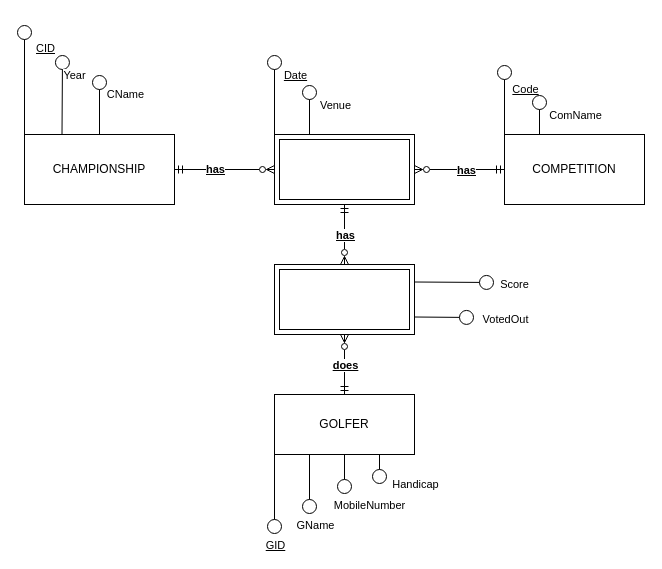
Some shapes in this 662 by 569 pixel diagram are drawn without their labels. Each missing label, with the centre of its shape:
CONTEST: (344,169)
PARTICIPATION: (344,299)
